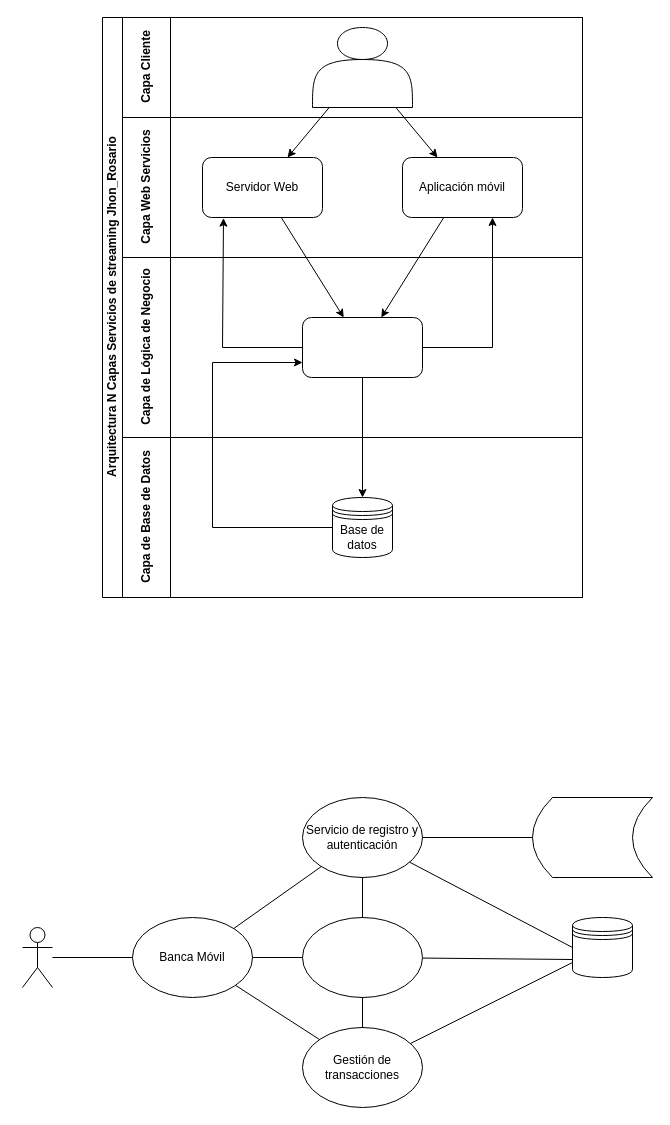
Some shapes in this 670 by 1125 pixel diagram are drawn without their labels. Each missing label, with the centre of its shape:
BD usuarios: point (602, 947)
Cliente: point (362, 67)
Estado de cuenta: point (362, 957)
Registro civil: point (592, 837)
Servidor de aplicac ión de streaming: point (362, 347)
Usuario: point (37, 957)
